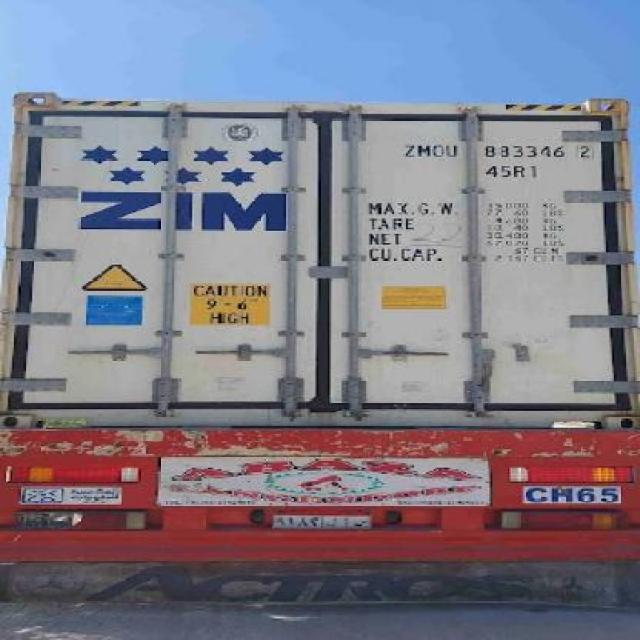ISO: (487, 163, 537, 180)
container_number: (402, 137, 595, 164)
